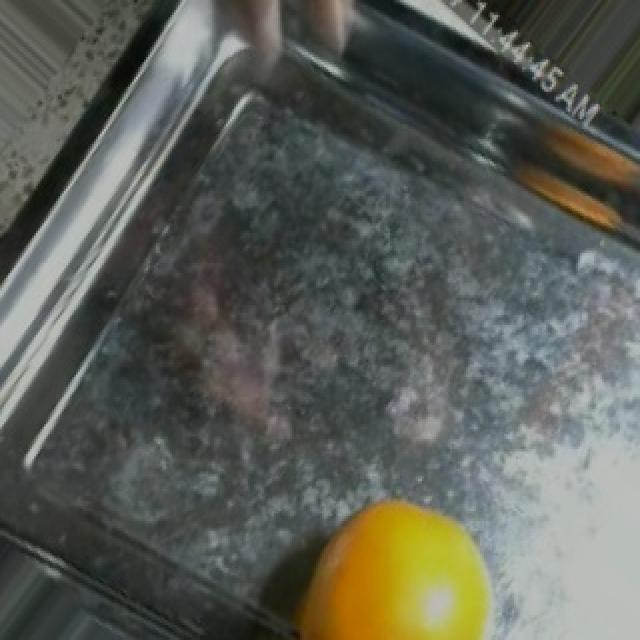Fruit: (272, 474, 510, 640)
